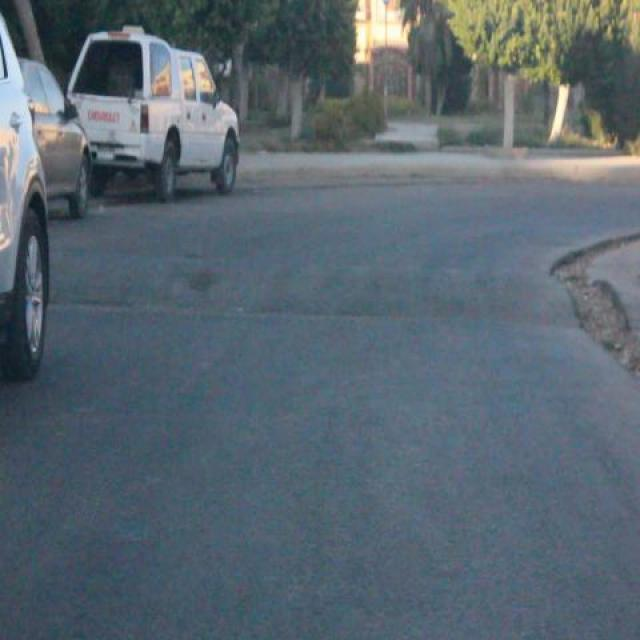Unmarked Bump: (49, 242, 580, 324)
